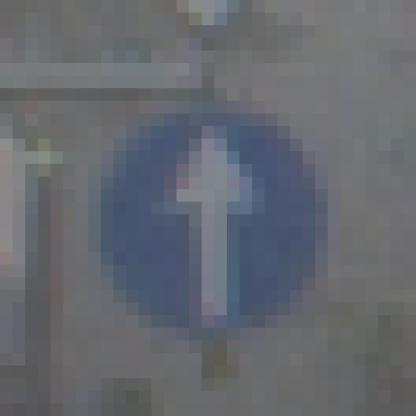AheadOnly: (64, 64, 354, 354)
